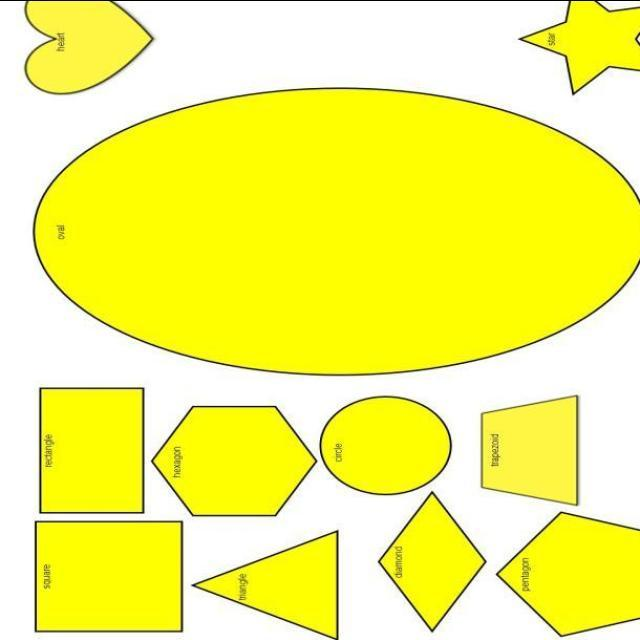circle: (26, 90, 640, 377), (316, 388, 459, 503)
square: (20, 509, 211, 640), (22, 370, 158, 521)
triangle: (186, 517, 366, 640)
